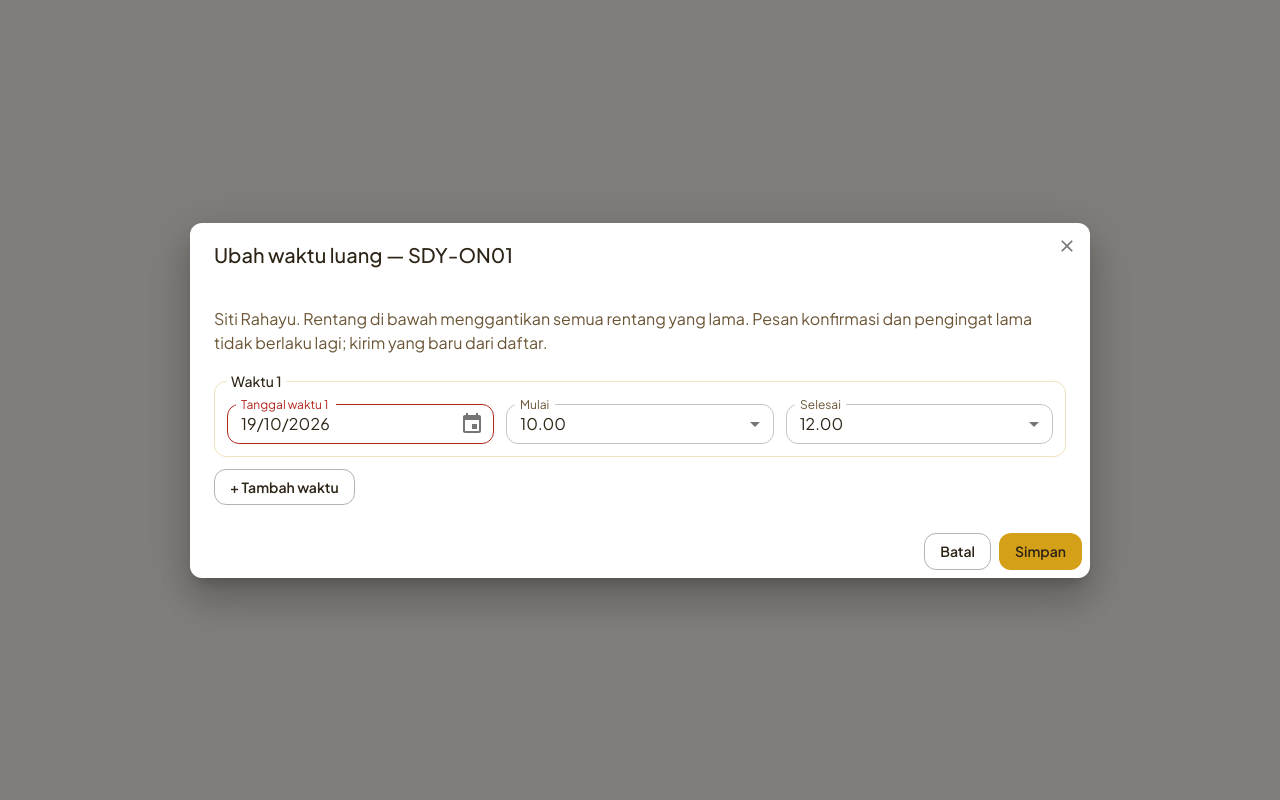
Test: ContactWindowsDialog › menolak tanggal yang sudah lewat tanpa memanggil server
This screenshot has width=1280, height=800.
Click the button "Simpan" at (1040, 551), box [999,533,1082,570]
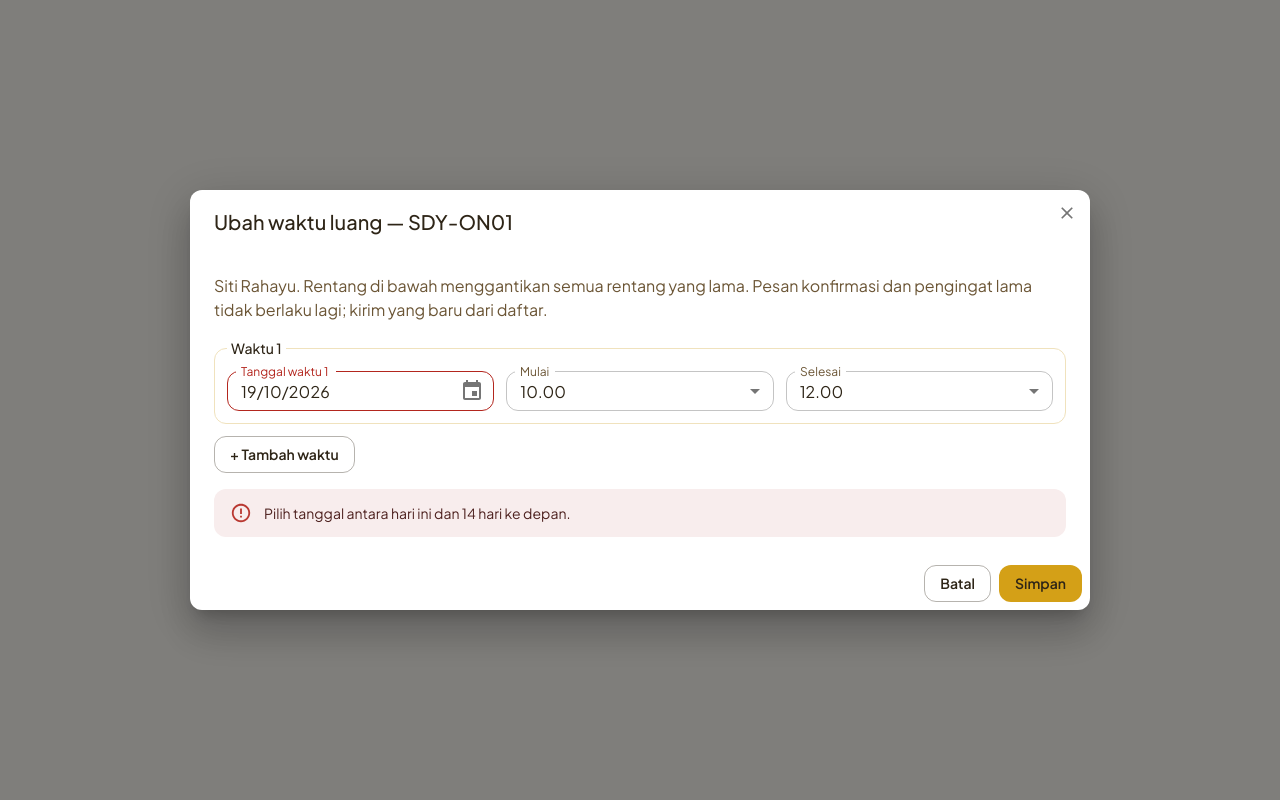
Now the message reads "Pilih tanggal antara hari ini dan 14 hari ke depan.", box [264,504,570,522]
